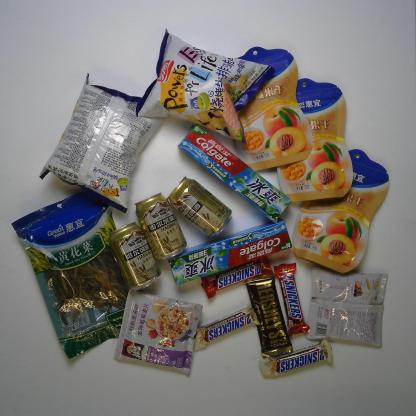Alcohol: (109, 221, 161, 293), (168, 177, 231, 236), (136, 193, 186, 262)
Chocolate: (245, 272, 294, 358), (201, 255, 273, 299), (193, 305, 261, 351), (274, 262, 314, 336), (259, 338, 333, 378)
Dried Food: (11, 187, 138, 359)
Dried Fruit: (290, 148, 391, 274), (276, 75, 357, 203), (230, 46, 312, 172)
Instant Drink: (113, 288, 205, 376), (305, 268, 389, 350)
Personal Hygiene: (178, 124, 292, 223), (167, 219, 292, 287)
Puffed Food: (41, 72, 164, 215), (134, 30, 274, 146)
